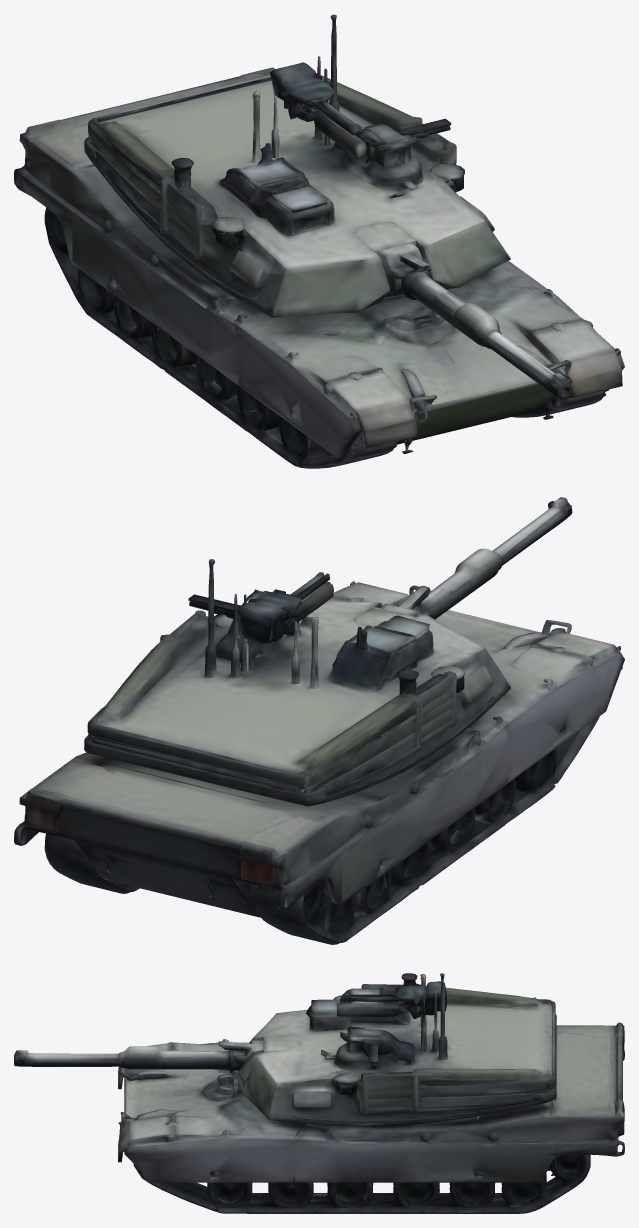
Rendered from m1a2_opt.glb.
3 renders of one model, top to bottom at view 1: azimuth 30°, elevation 25°; view 2: azimuth 150°, elevation 25°; view 3: azimuth 270°, elevation 25°, orthographic. The views are drawn at different scales.
Parts seen in each view (by area): view 1: node_0; view 2: node_0; view 3: node_0.
Boxes of the visible parts, x1,y1,x2,y2 form: node_0: (14, 14, 624, 468); node_0: (14, 497, 624, 944); node_0: (14, 973, 624, 1213).
Size of the model in its own units: 0.4162 by 0.4376 by 1.11.
Materials: 1 (1 with a texture image).
